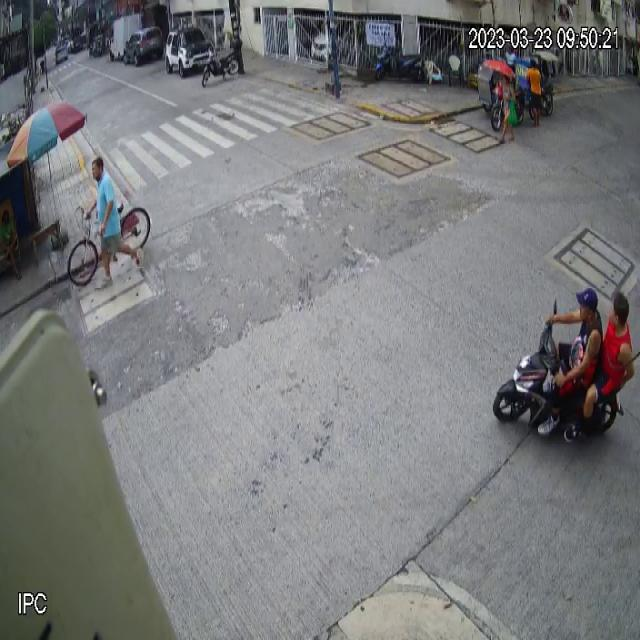Motorcycle: (492, 299, 624, 443)
